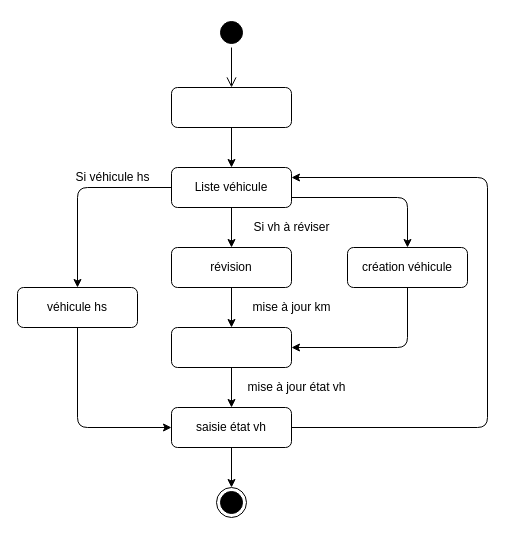
Some shapes in this 513 by 535 pixel diagram are drawn without their labels. The centre of each missing label's shape, as x and y in pixels:
"Connexion garagiste" goes at pixel 231 107.
"saisie km moment révision" goes at pixel 231 347.
